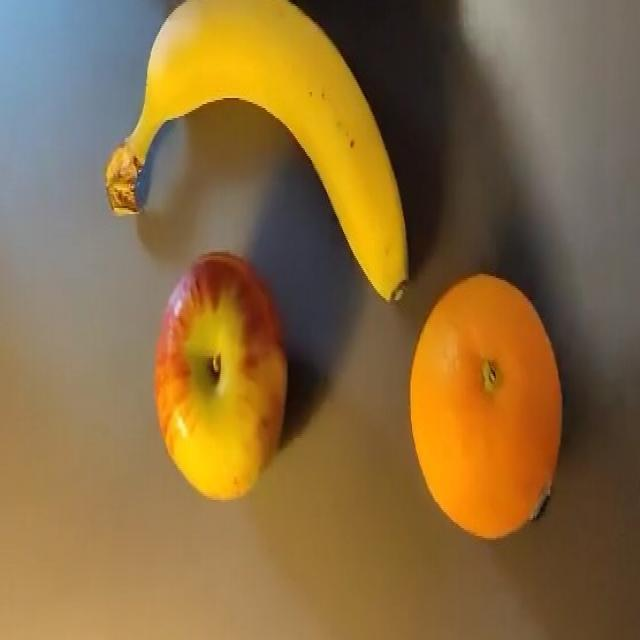Apple: (153, 250, 288, 501)
Banana: (104, 0, 410, 303)
Orange: (408, 272, 563, 540)
